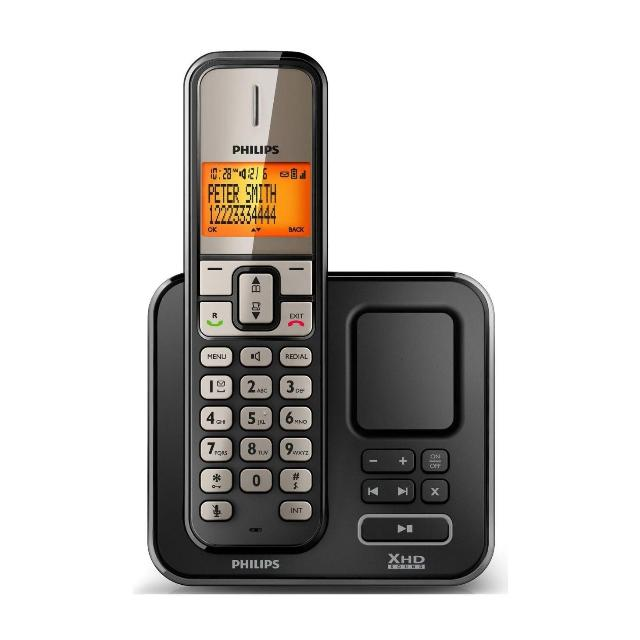Telephone-Set: (108, 29, 558, 589)
